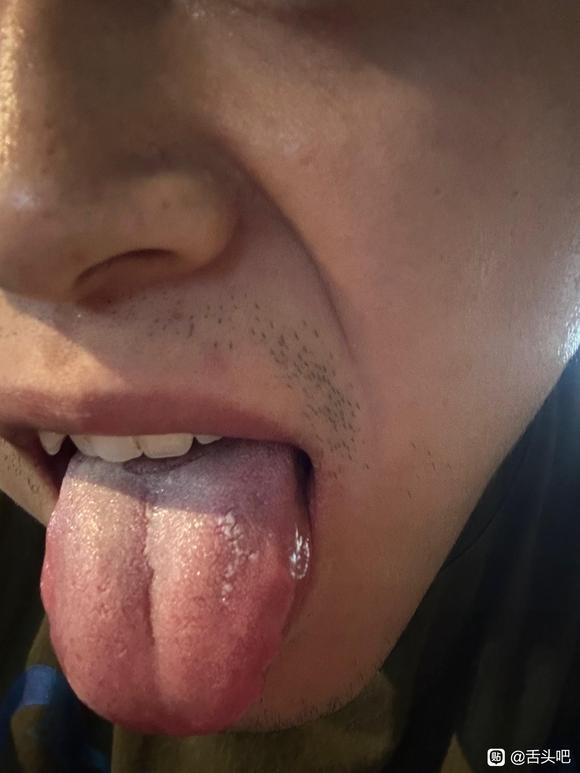baitaishe: (39, 442, 313, 734)
hongshe: (39, 442, 313, 734)
liewenshe: (135, 490, 158, 646)
